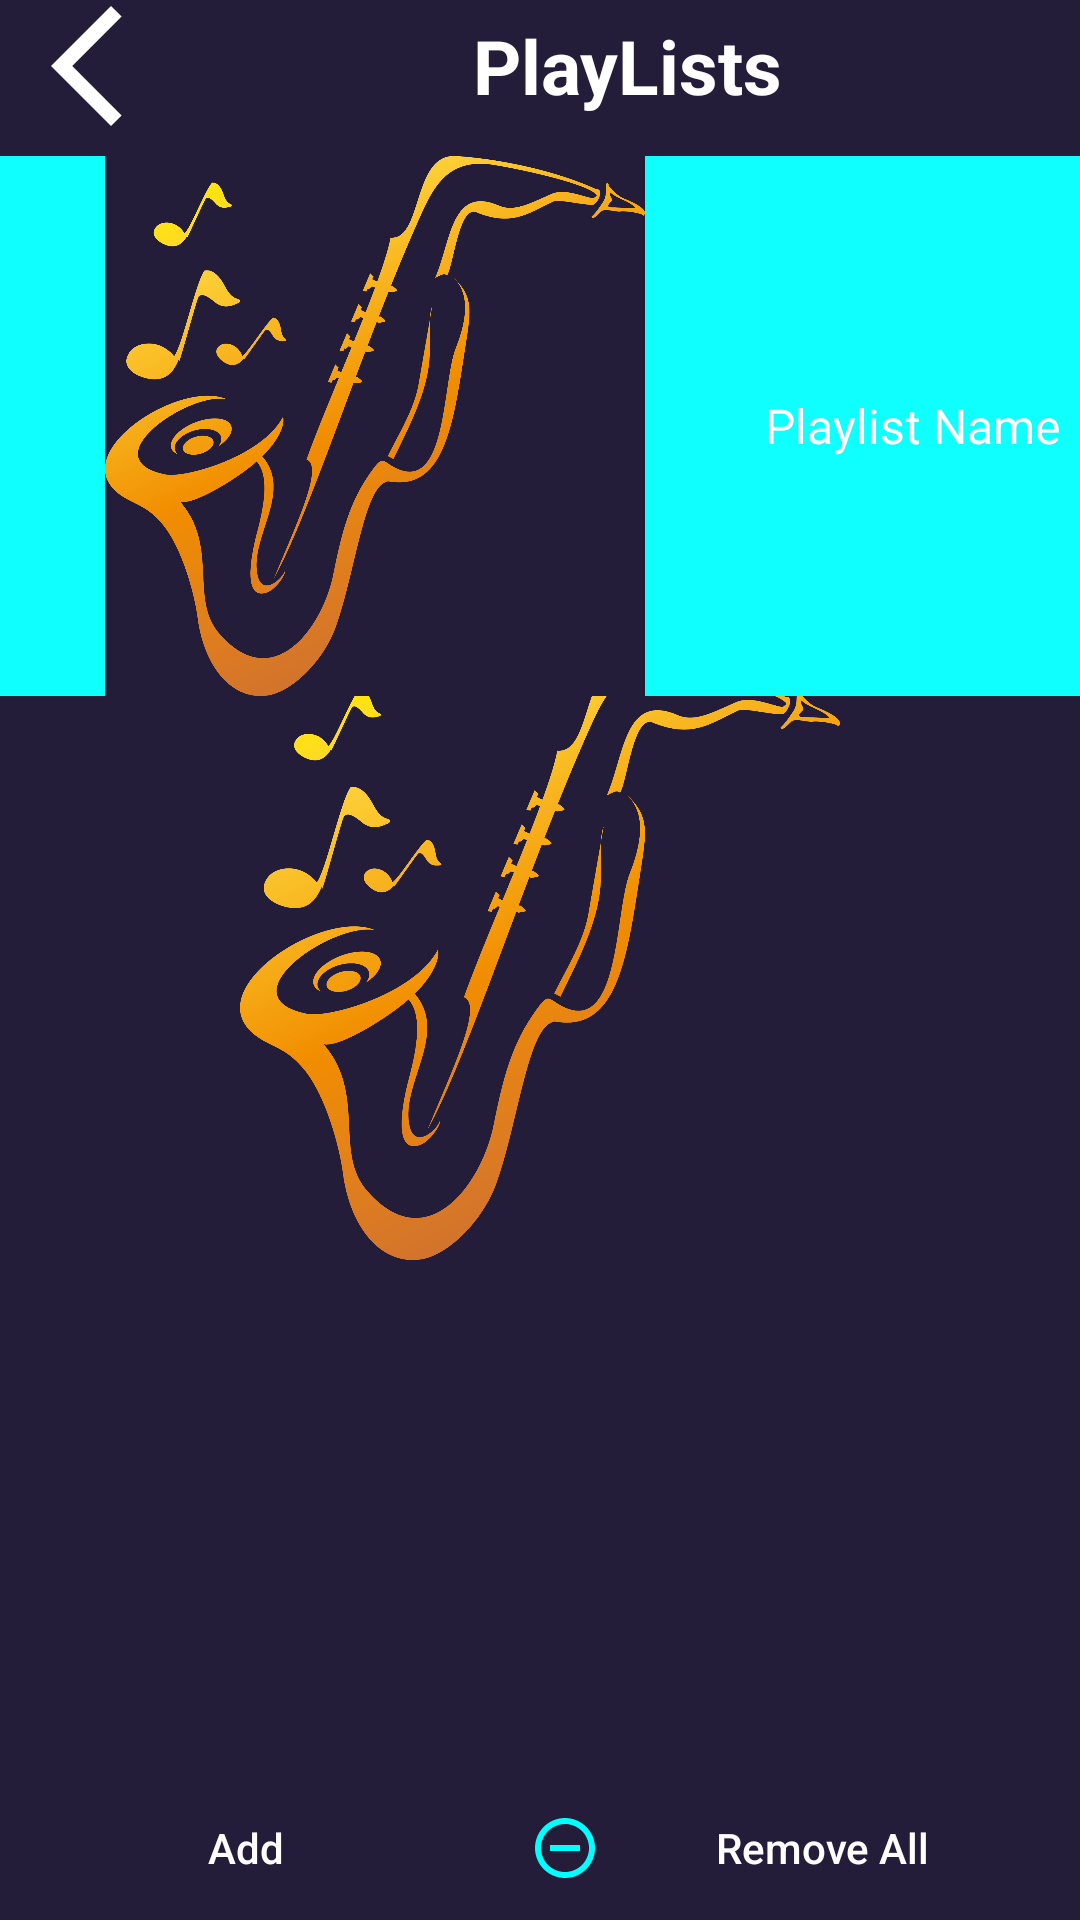

Point at icon controls on the screen. Image size 1080px×1920px, points as (x,y).
Back: (86,66)
